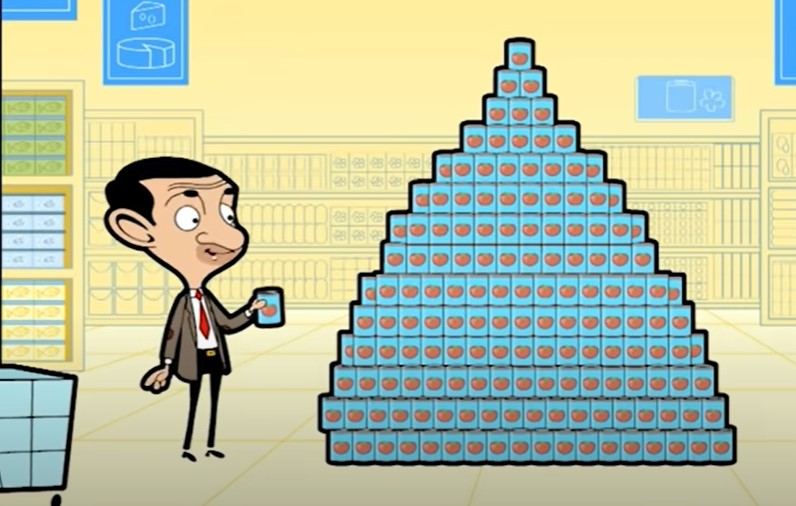mrbean: (101, 155, 290, 464)
